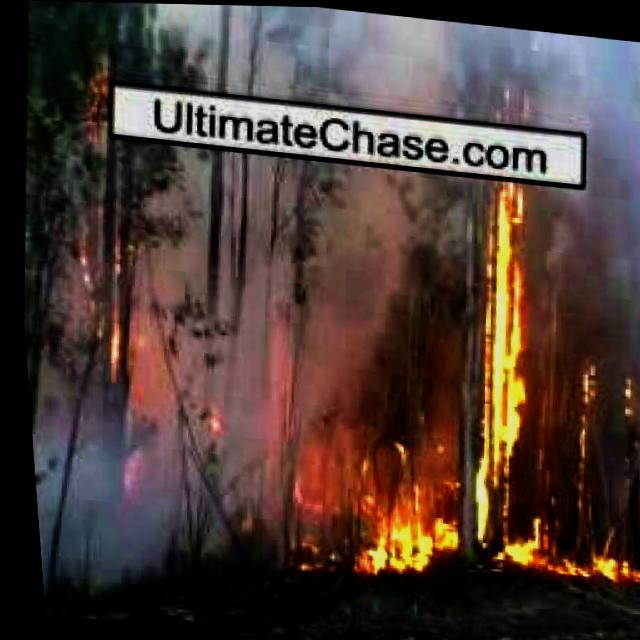Fire: (453, 155, 570, 564), (326, 449, 455, 587), (90, 304, 161, 429), (80, 58, 123, 144), (552, 548, 640, 583)
Smoke: (8, 129, 472, 627), (146, 3, 640, 132)
